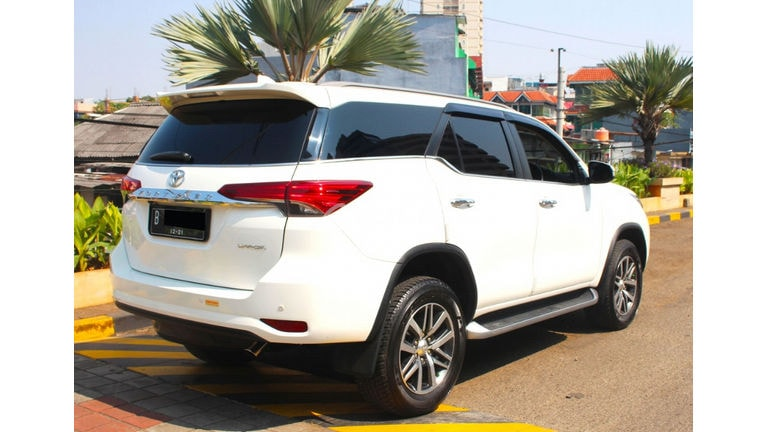plate: (150, 207, 206, 238)
